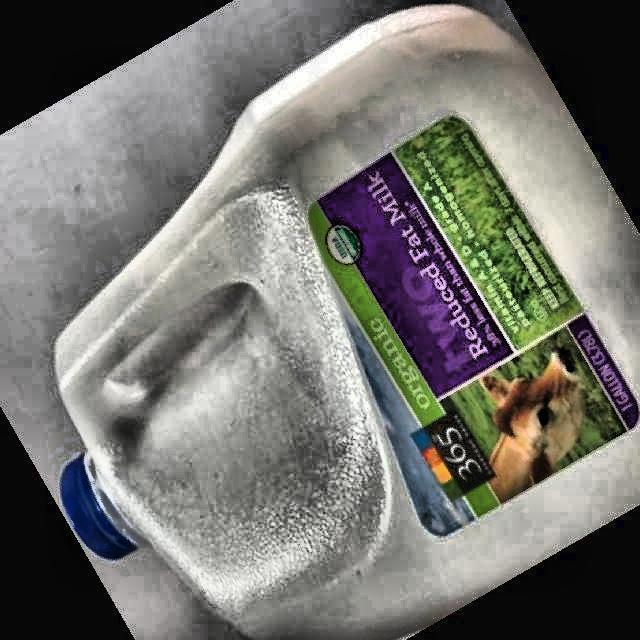plastic: (55, 5, 640, 640)
